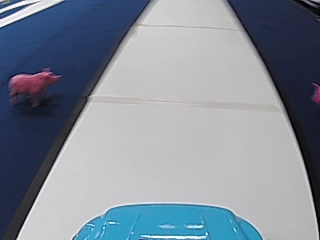pig: (7, 65, 60, 108)
